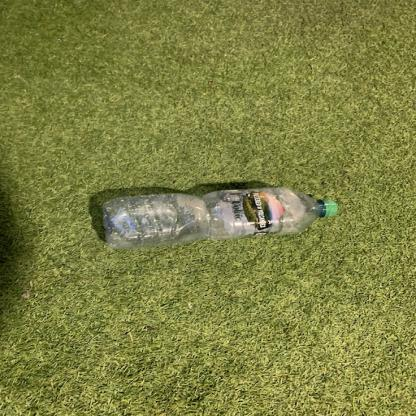trash: (102, 188, 338, 247)
